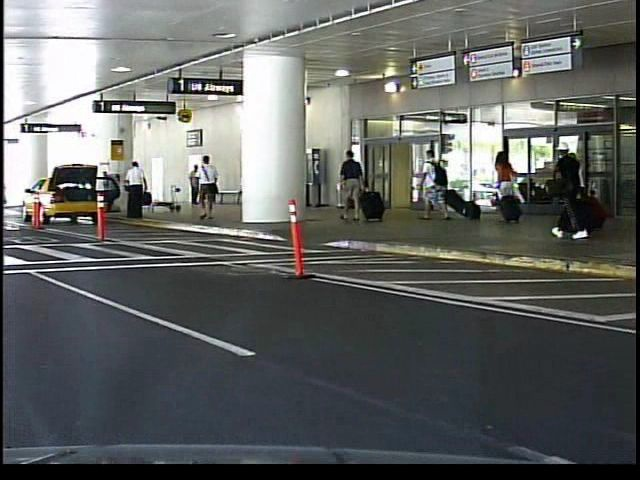person: (545, 129, 593, 241), (488, 142, 523, 227), (416, 142, 453, 222), (336, 143, 367, 226), (197, 155, 229, 228), (183, 161, 201, 209)
